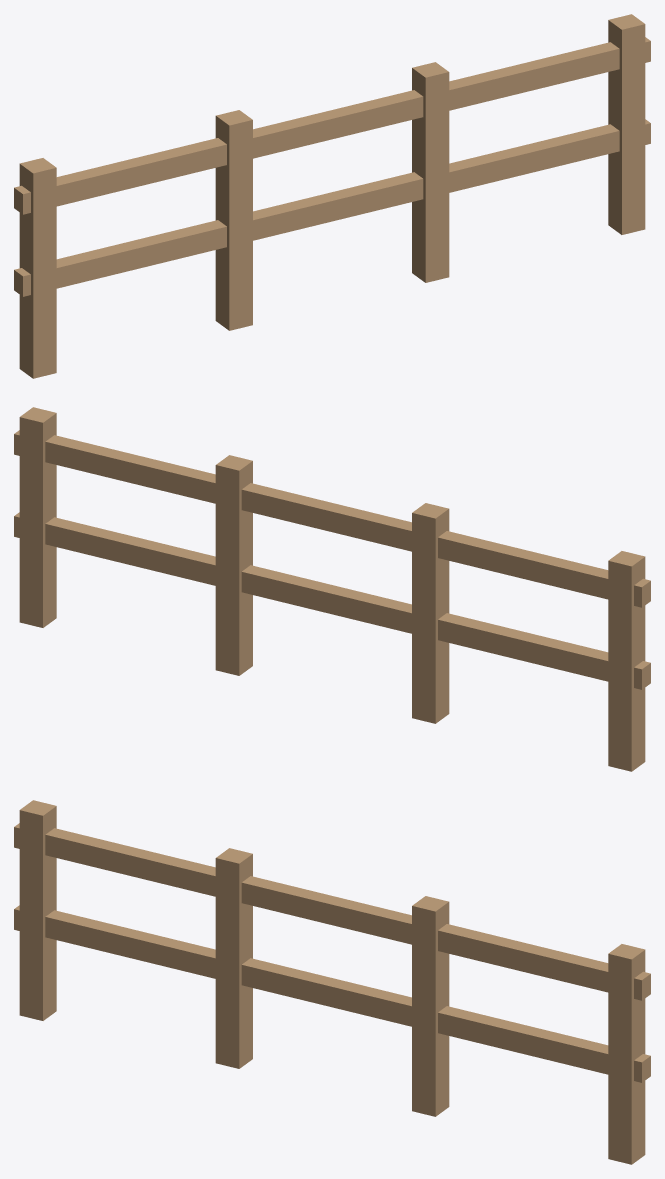
The model's file is Prop_DS_FencePen.glb.
3 renders of one model, top to bottom at view 1: azimuth 30°, elevation 25°; view 2: azimuth 150°, elevation 25°; view 3: azimuth 330°, elevation 25°, orthographic.
Parts seen in each view (by area): view 1: Cube.005, Cube.004, Cube.002, Cube.003, Cube, Cube.001; view 2: Cube.005, Cube.004, Cube.002, Cube.003, Cube, Cube.001; view 3: Cube.005, Cube.004, Cube.001, Cube, Cube.003, Cube.002.
Part boxes in pixels (x1,y1,x2,y2): Cube.005: (14, 37, 650, 214); Cube.004: (14, 119, 650, 296); Cube.002: (412, 62, 449, 282); Cube.003: (608, 14, 645, 234); Cube: (19, 158, 56, 378); Cube.001: (215, 110, 252, 330); Cube.005: (14, 430, 650, 607); Cube.004: (14, 512, 650, 689); Cube.002: (215, 455, 252, 675); Cube.003: (19, 407, 56, 627); Cube: (608, 551, 645, 771); Cube.001: (412, 503, 449, 723); Cube.005: (14, 823, 650, 1000); Cube.004: (14, 905, 650, 1082); Cube.001: (215, 848, 252, 1068); Cube: (19, 800, 56, 1020); Cube.003: (608, 944, 645, 1164); Cube.002: (412, 896, 449, 1116).
Bounding box in the file's own units: 3.2 × 1 × 0.12.
